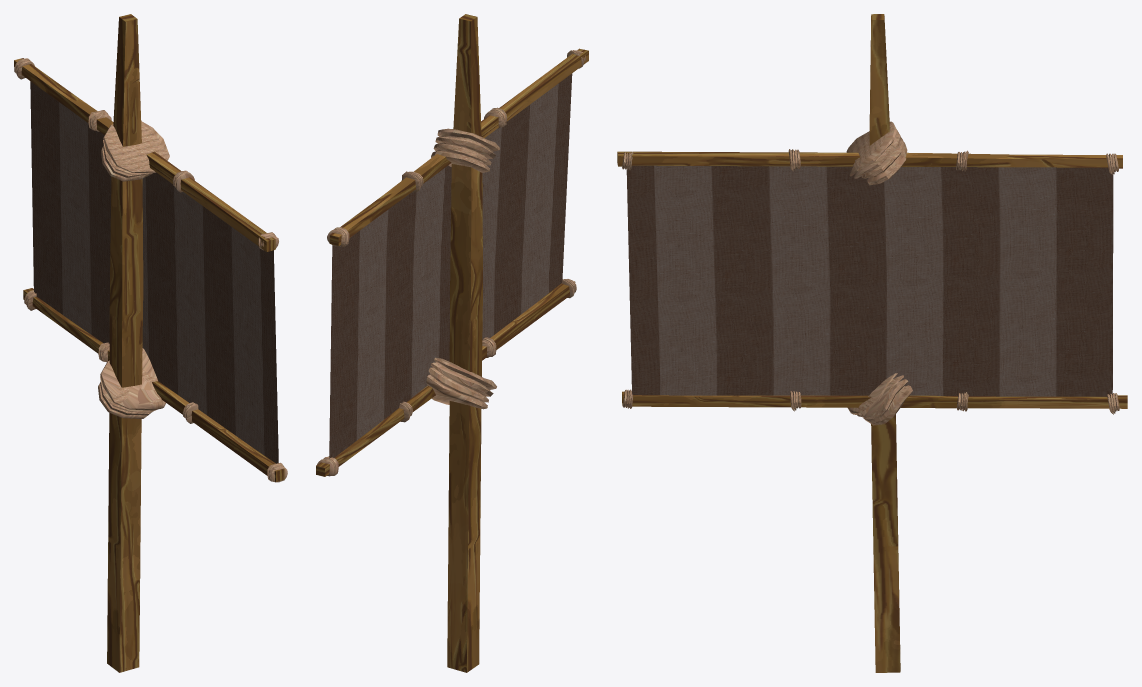
Rendered from Mast.fbx.
The picture shows the model from 3 angles, left to right: view 1: azimuth 30°, elevation 25°; view 2: azimuth 150°, elevation 25°; view 3: azimuth 270°, elevation 25°; orthographic projection.
Visible parts, largest first — view 1: Sail, Mast; view 2: Sail, Mast; view 3: Sail, Mast.
Part boxes in pixels (x1=…): Sail: x1=30, y1=81, x2=278, y2=463; Mast: x1=14, y1=14, x2=287, y2=672; Sail: x1=329, y1=73, x2=572, y2=458; Mast: x1=316, y1=14, x2=588, y2=672; Sail: x1=626, y1=165, x2=1113, y2=396; Mast: x1=617, y1=14, x2=1127, y2=672.
Size of the model in its own units: 0.5088 by 5.27 by 3.74.
Materials: 3 (3 with a texture image).
